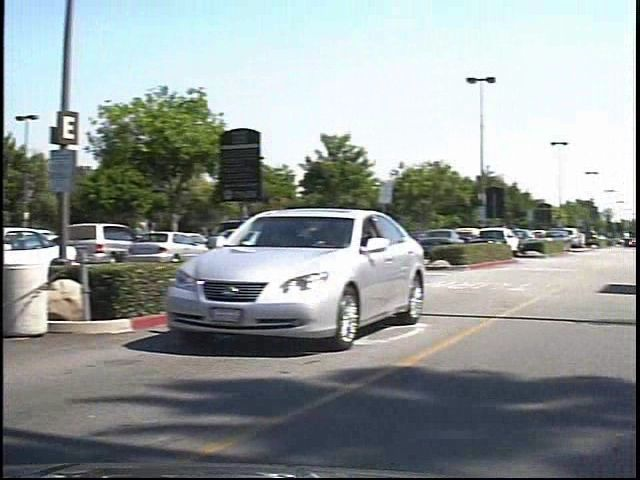person: (142, 215, 169, 265)
